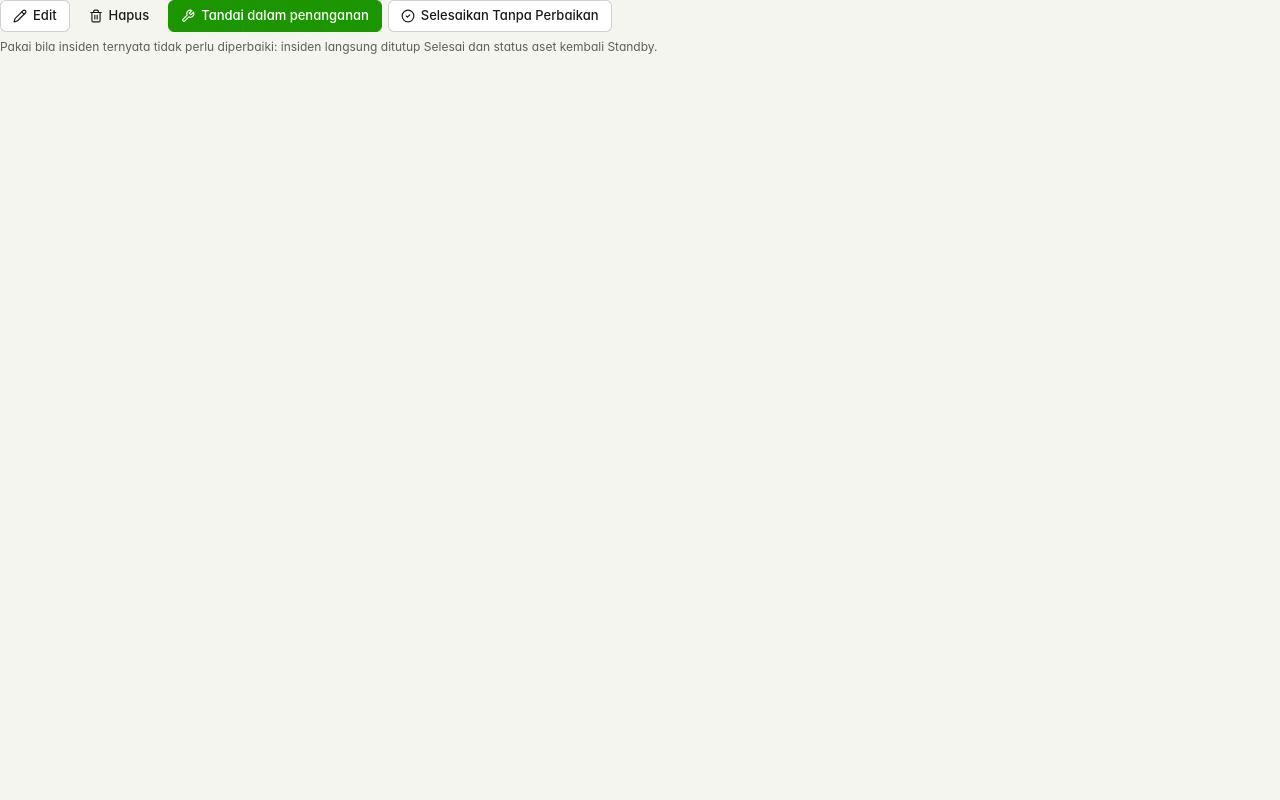
hapus insiden › edge: insiden operator yang terkait job (bukan ganti unit) tetap bisa dihapus
Click the button "Hapus". click: (119, 16)
box: 76,0 -> 162,32
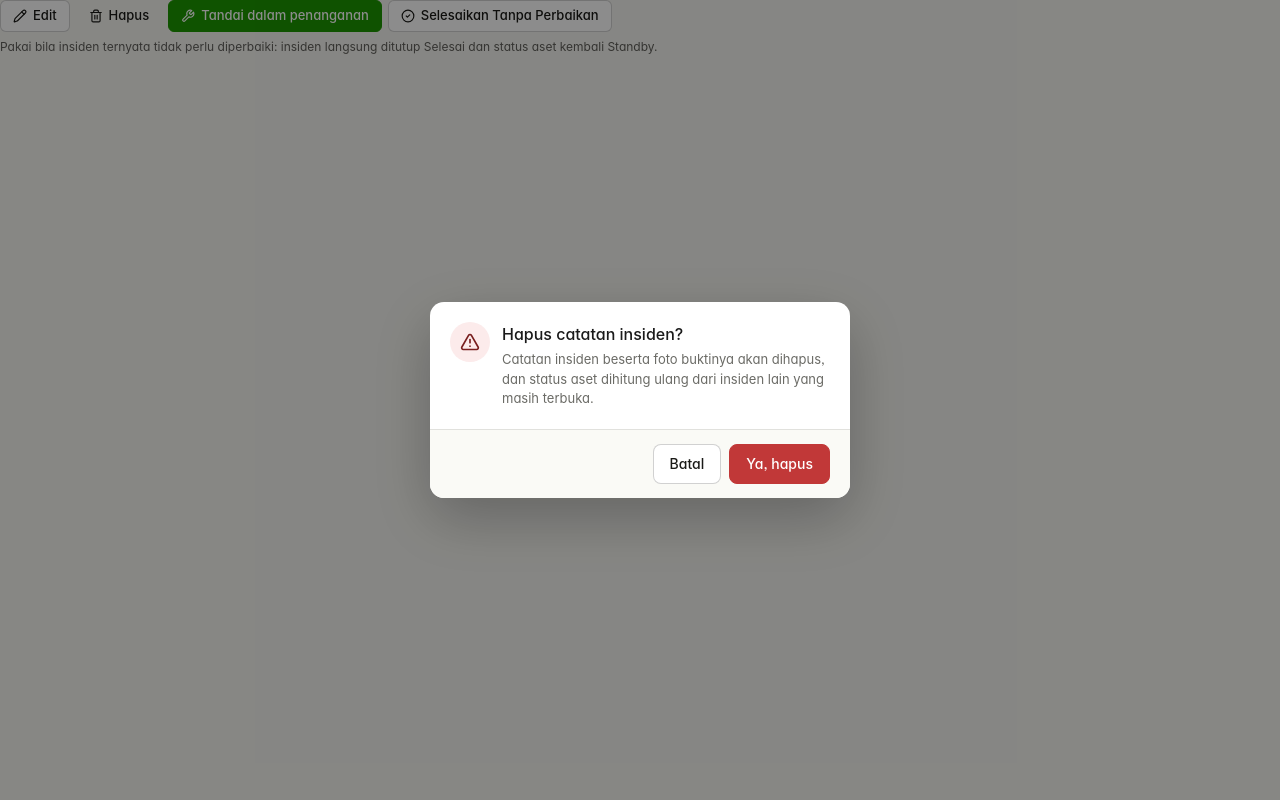
Expected: the heading "Hapus catatan insiden?" is shown, 502,324 -> 683,344
